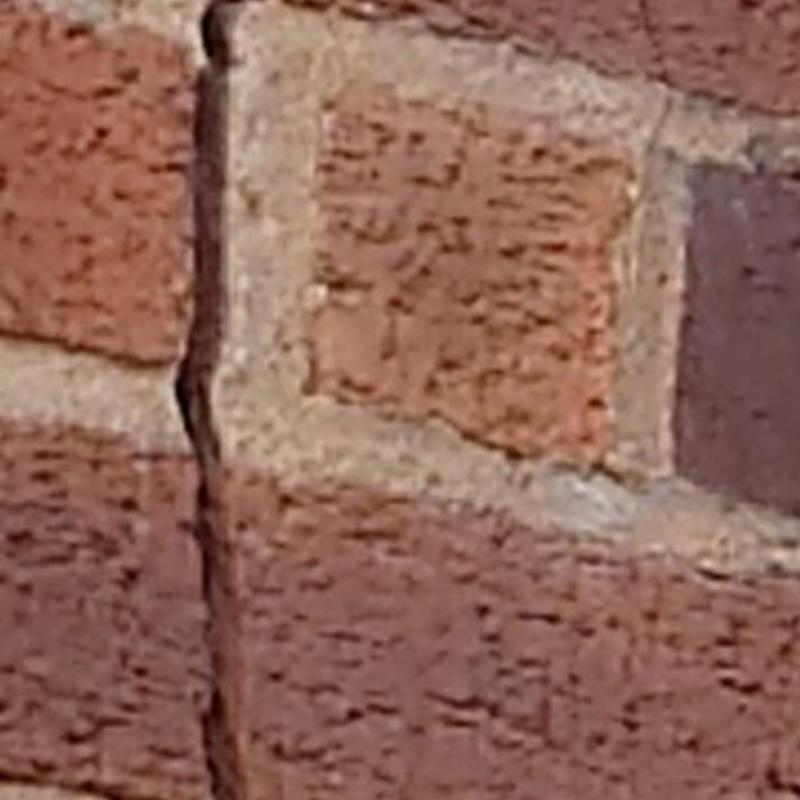pothole: (175, 0, 244, 800)
